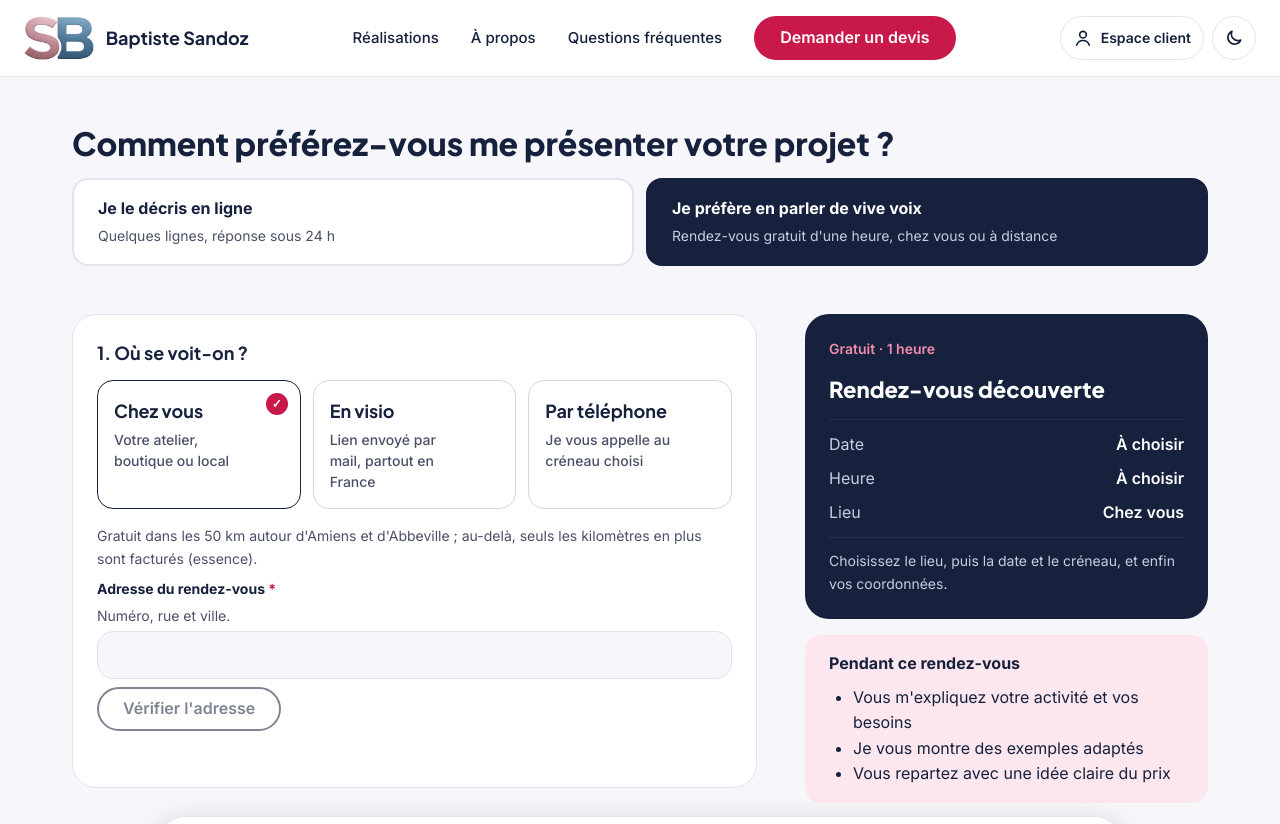
Page Rendez-vous › fait apparaître chaque étape quand la précédente est validée
expect the element "2. Choisissez un créneau d'une heure" is not shown: met
expect the element "3. Vos coordonnées" is not shown: met
// Chez vous : l'adresse vérifiée dans les 50 km valide le lieu.
Type "12 rue de la Gare, Abbeville" into the field labelled "Adresse du rendez-vous *" at (414, 655), box [97,631,732,679]
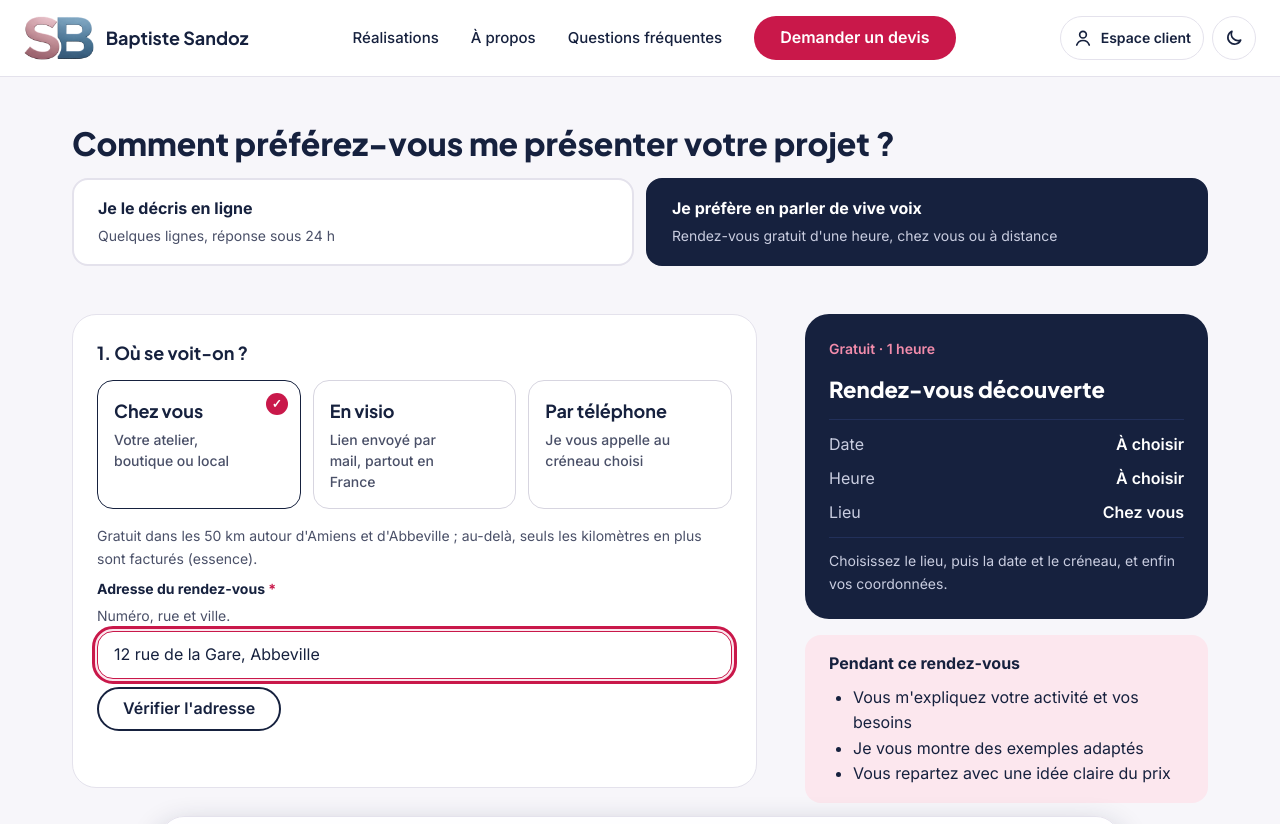
Click the button "Vérifier l'adresse" at (189, 709), box [97,687,281,731]
(page scrolled)
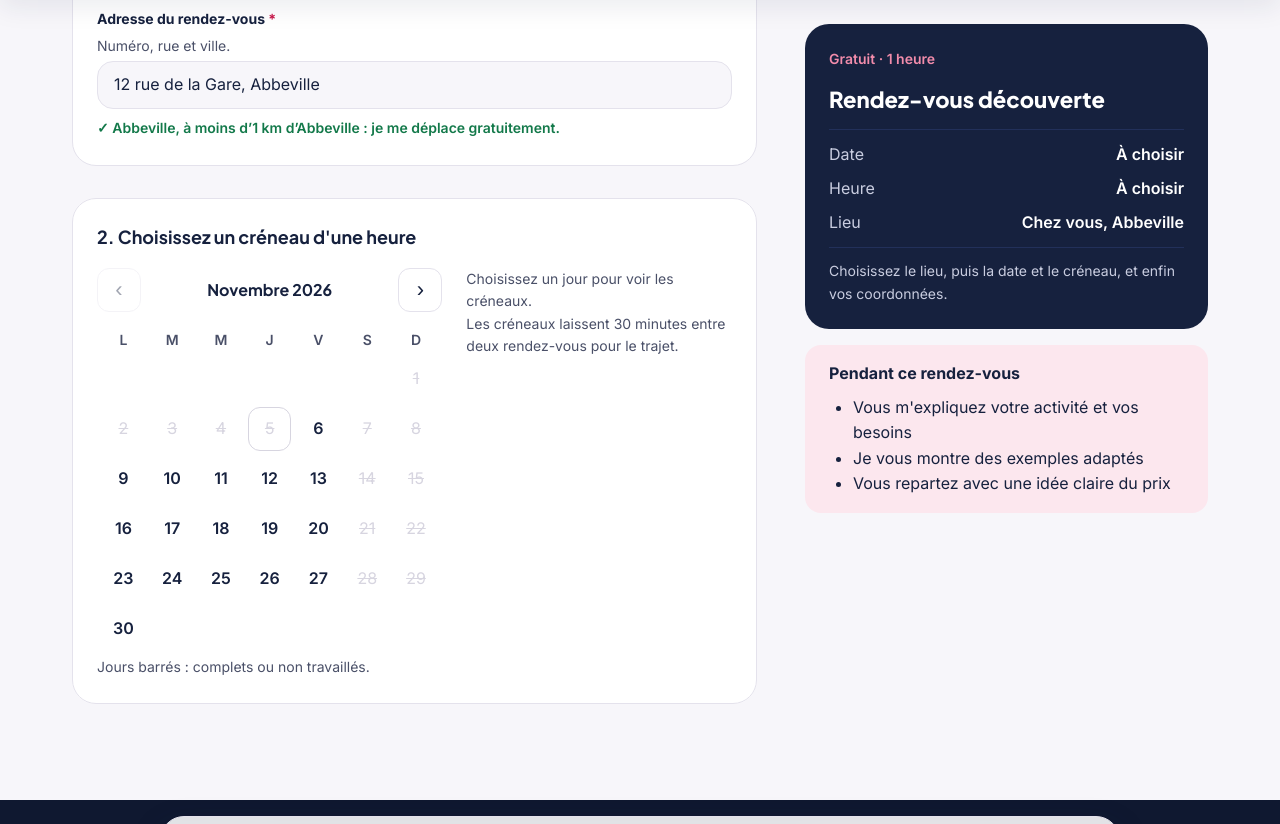
expect the element "3. Vos coordonnées" is not shown: met
expect the text "je me déplace gratuitement" is shown: met, box [112,119,560,136]
expect the element "2. Choisissez un créneau d'une heure" is shown: met, box [72,198,757,704]
// Jour et créneau : les coordonnées et le bouton « Confirmer » apparaissent.
Click the button named "mardi 17 novembre 2026" at (172, 529), box [151,507,194,551]
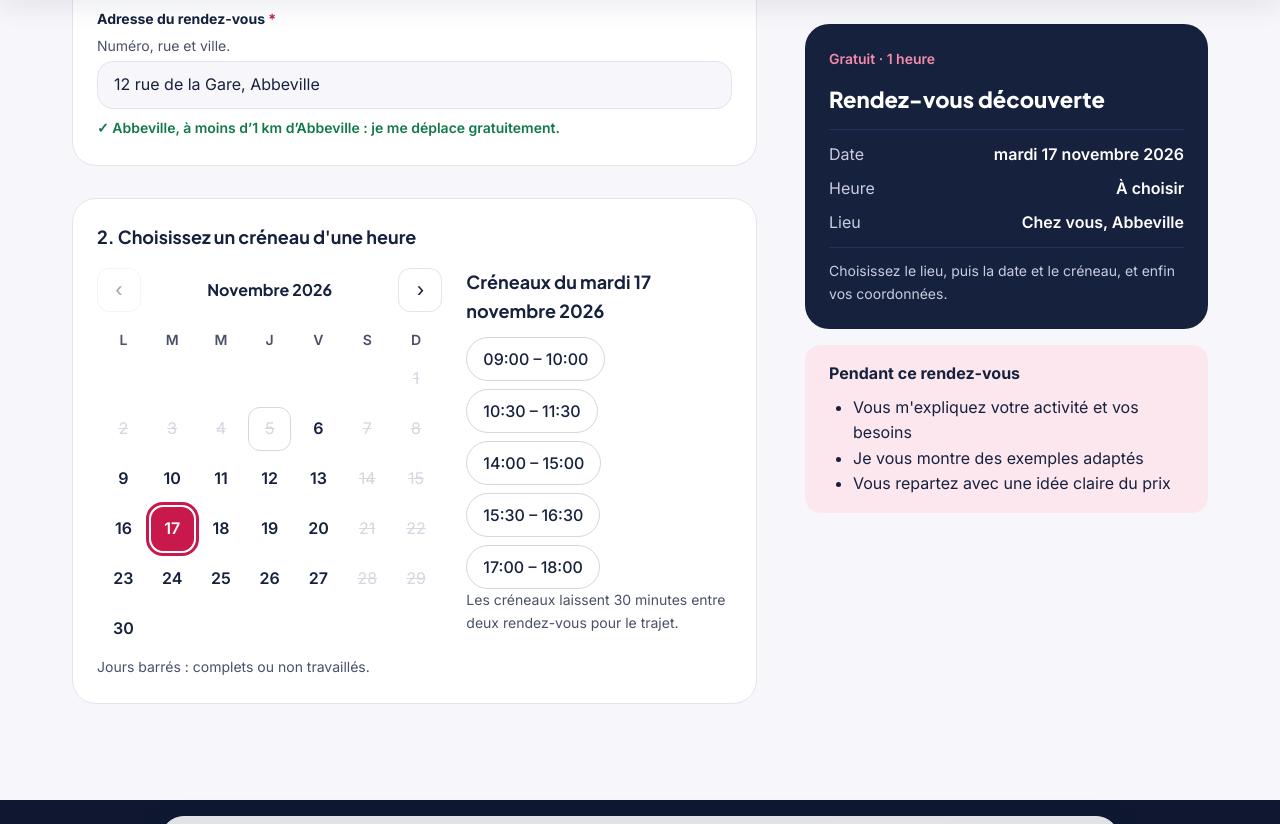
expect the element "3. Vos coordonnées" is not shown: met
Click the radio button labelled "14:00 – 15:00" at (534, 463), box [466,441,601,485]
(page scrolled)
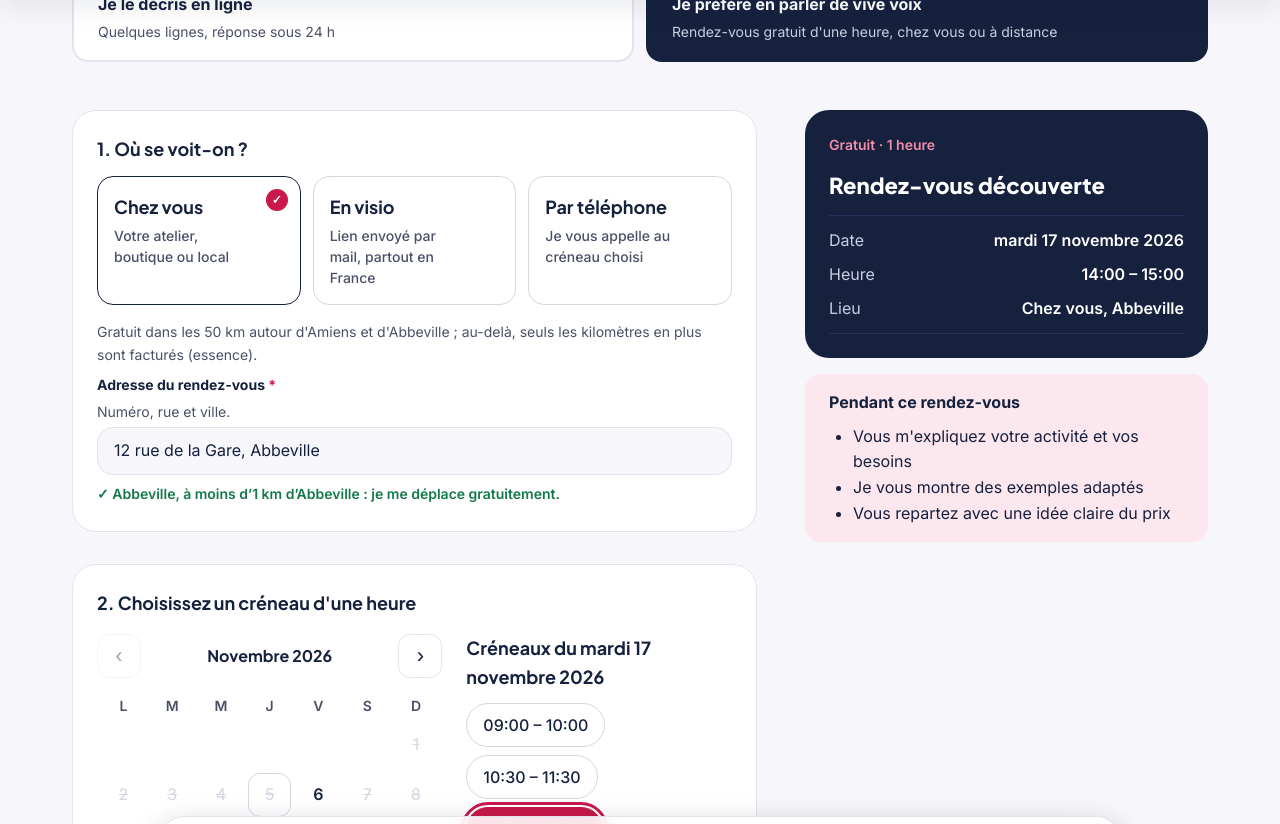
// Modifier l'adresse : les étapes suivantes se masquent jusqu'à la nouvelle vérification, le choix est gardé.
Type " bis" into the field labelled "Adresse du rendez-vous *" at (414, 451), box [97,427,732,475]
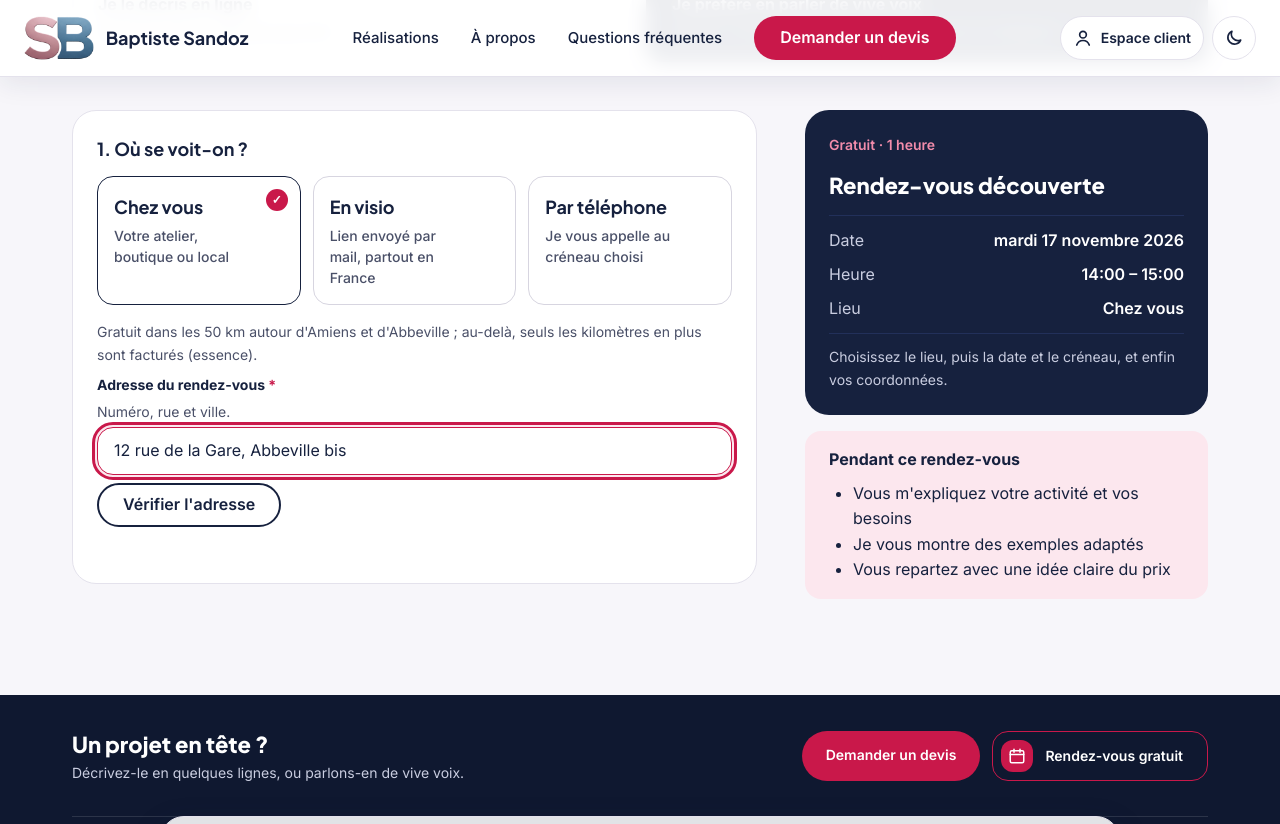
expect the element "3. Vos coordonnées" is not shown: met
expect the text "2. Choisissez un créneau d'une heure" is gone: met
Click the button "Vérifier l'adresse" at (189, 505), box [97,483,281,527]
(page scrolled)
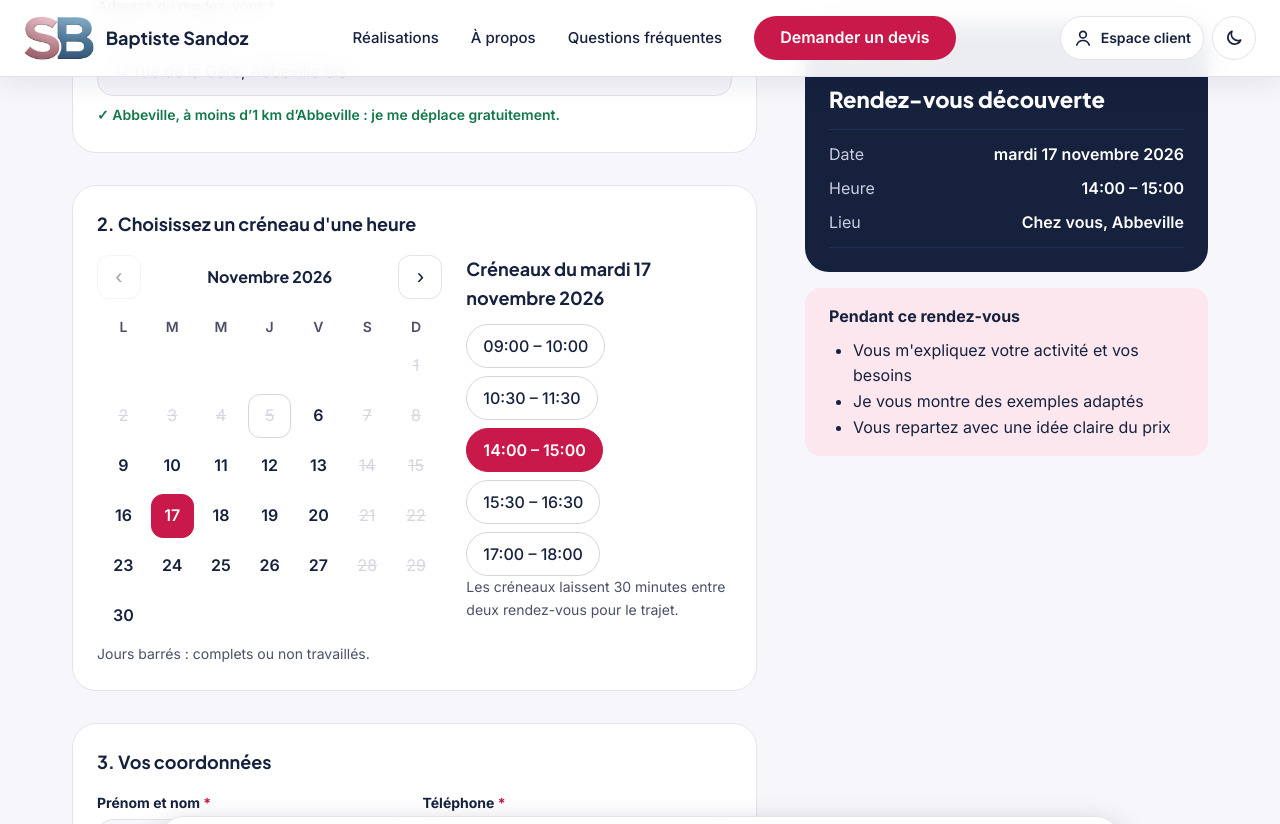
expect the text "je me déplace gratuitement" is shown: met, box [112,106,560,123]
expect the radio button labelled "14:00 – 15:00" is checked: met, box [466,428,603,472]
